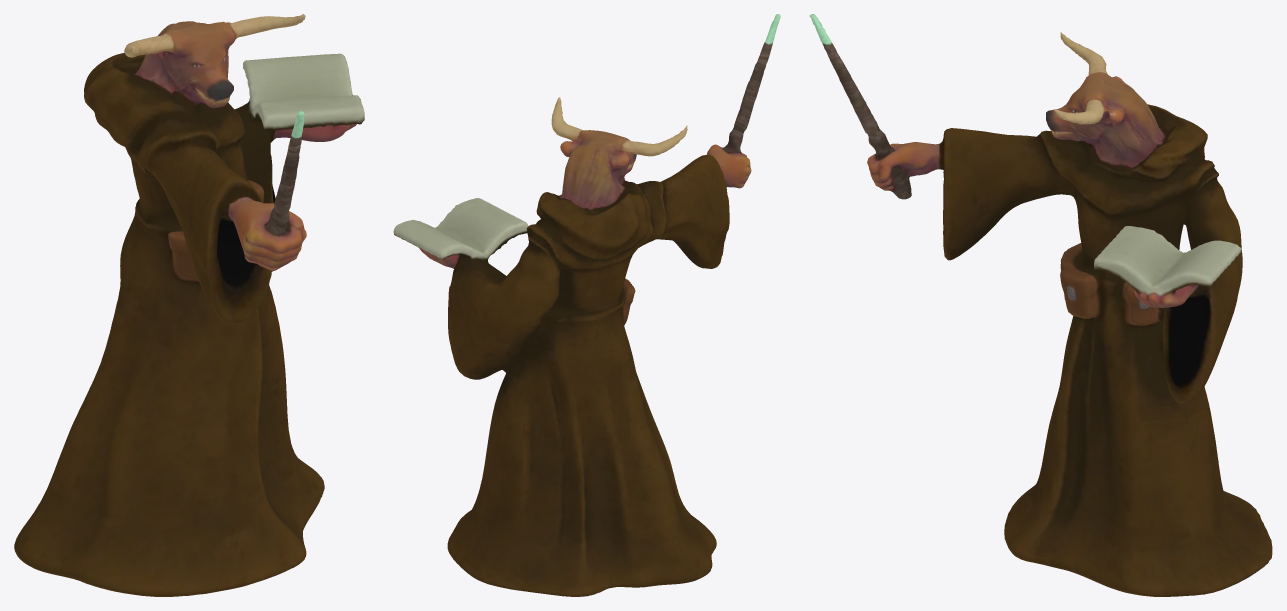
The model's file is MZ4250 - Minotaur Wizard Wand.glb.
3 renders of one model, left to right at view 1: azimuth 30°, elevation 25°; view 2: azimuth 150°, elevation 25°; view 3: azimuth 270°, elevation 25°, orthographic. The views are drawn at different scales.
Parts seen in each view (by area): view 1: Minotaur Wizard with Wand_low.001; view 2: Minotaur Wizard with Wand_low.001; view 3: Minotaur Wizard with Wand_low.001.
Part boxes in pixels (x1,y1,x2,y2): Minotaur Wizard with Wand_low.001: (14,14,364,596); Minotaur Wizard with Wand_low.001: (393,14,780,596); Minotaur Wizard with Wand_low.001: (809,14,1272,596).
Bounding box in the file's own units: 1.5 × 2.28 × 1.9.
1 material, 1 textured.
